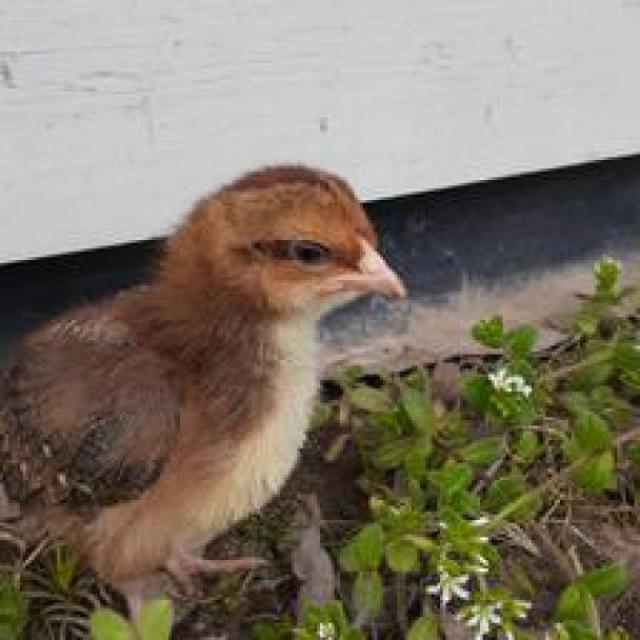Chicken: (6, 142, 412, 605)
